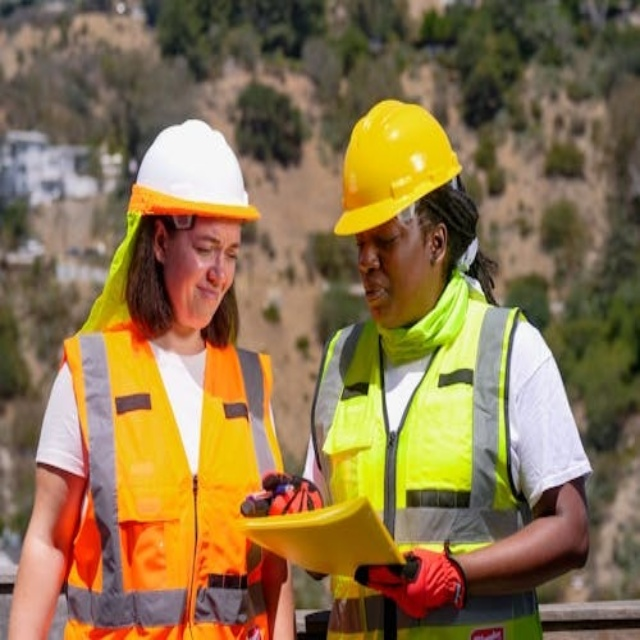Guantes: (359, 545, 465, 620), (241, 473, 325, 519)
Sin_gafas: (184, 220, 244, 263), (351, 224, 410, 256)
Sin_mascara: (179, 271, 224, 317), (360, 275, 397, 311)
